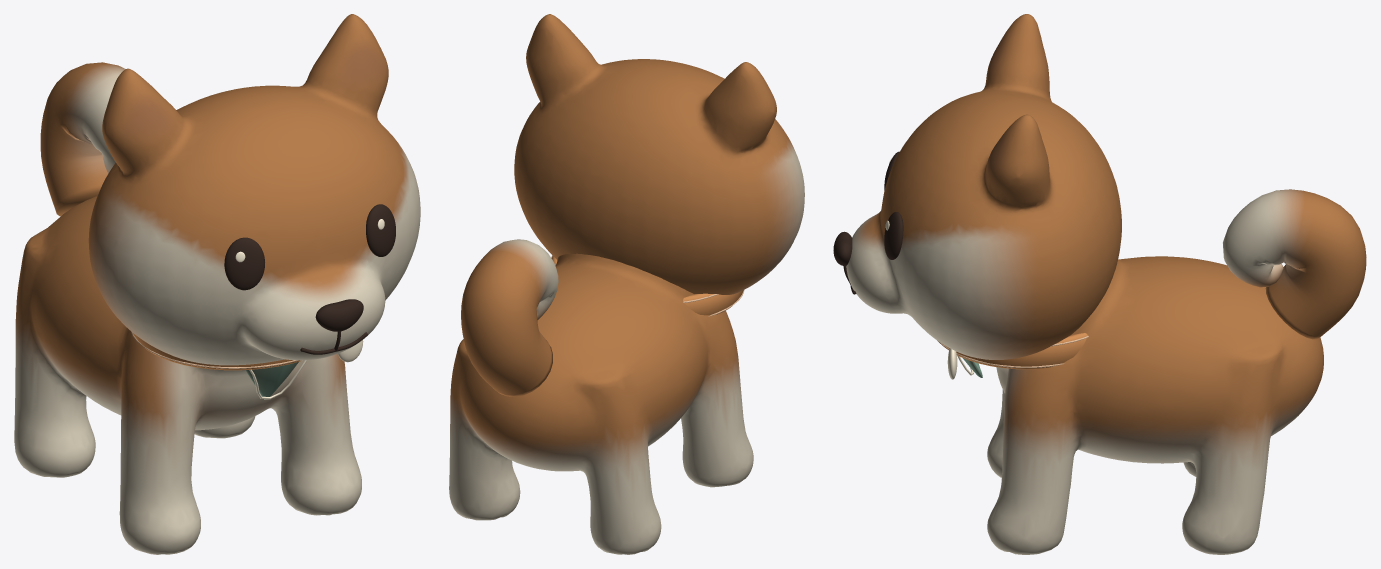
File: puppy-v3.glb
The picture shows the model from 3 angles, left to right: view 1: azimuth 30°, elevation 25°; view 2: azimuth 150°, elevation 25°; view 3: azimuth 270°, elevation 25°; orthographic projection. The views are drawn at different scales.
Visible parts, largest first — view 1: PuppyV3_Head, PuppyV3_Body, PuppyV3_Tail, PuppyV3_Face, PuppyV3_Collar, PuppyV3_Bandana; view 2: PuppyV3_Head, PuppyV3_Body, PuppyV3_Tail, PuppyV3_Collar; view 3: PuppyV3_Body, PuppyV3_Head, PuppyV3_Tail, PuppyV3_Collar, PuppyV3_Face.
Part boxes in pixels (box(x1,y1,x2,y2)): PuppyV3_Head: box(88, 14, 420, 365); PuppyV3_Body: box(14, 196, 361, 554); PuppyV3_Tail: box(40, 62, 125, 216); PuppyV3_Face: box(224, 204, 395, 354); PuppyV3_Collar: box(131, 331, 363, 370); PuppyV3_Bandana: box(245, 360, 306, 399); PuppyV3_Head: box(514, 14, 804, 294); PuppyV3_Body: box(449, 253, 753, 554); PuppyV3_Tail: box(461, 239, 558, 396); PuppyV3_Collar: box(551, 255, 744, 316); PuppyV3_Body: box(987, 256, 1323, 554); PuppyV3_Head: box(846, 14, 1121, 359); PuppyV3_Tail: box(1223, 189, 1366, 339); PuppyV3_Collar: box(937, 333, 1088, 379); PuppyV3_Face: box(833, 151, 903, 294).
Size of the model in its own units: 1.55 by 2.33 by 2.55.
